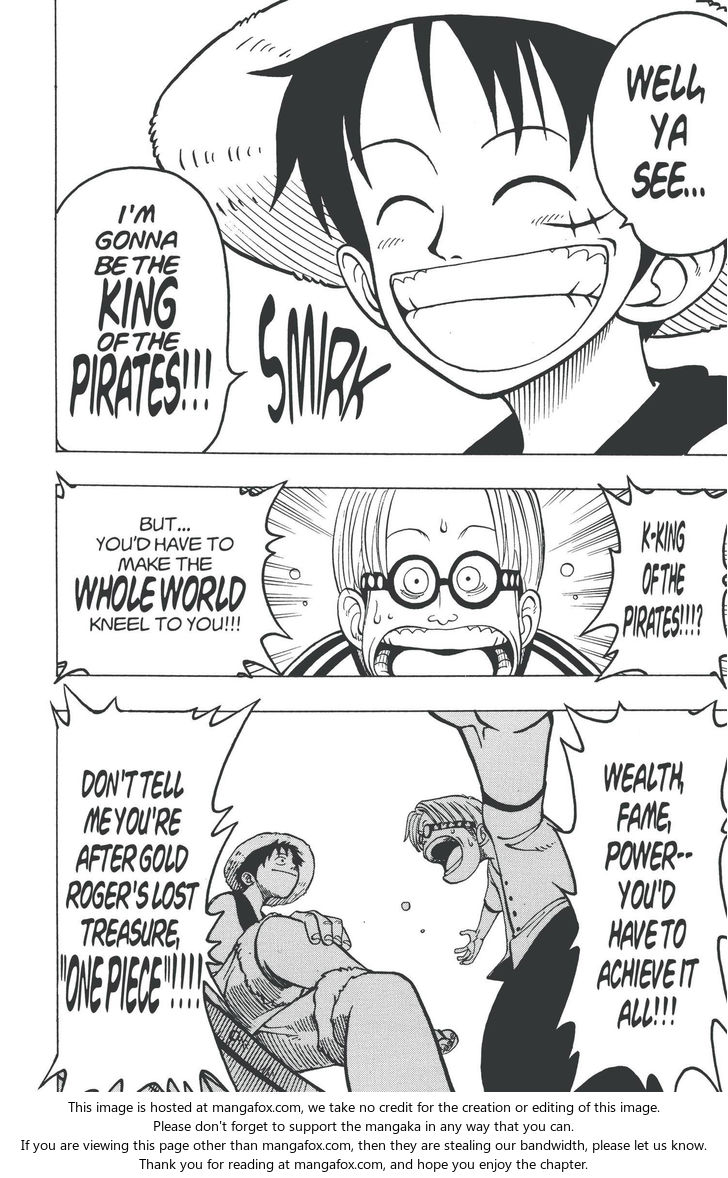bubble: (40, 684, 260, 1094), (554, 700, 728, 1094), (56, 165, 246, 453), (55, 472, 292, 683), (591, 11, 727, 257), (580, 477, 728, 687)
